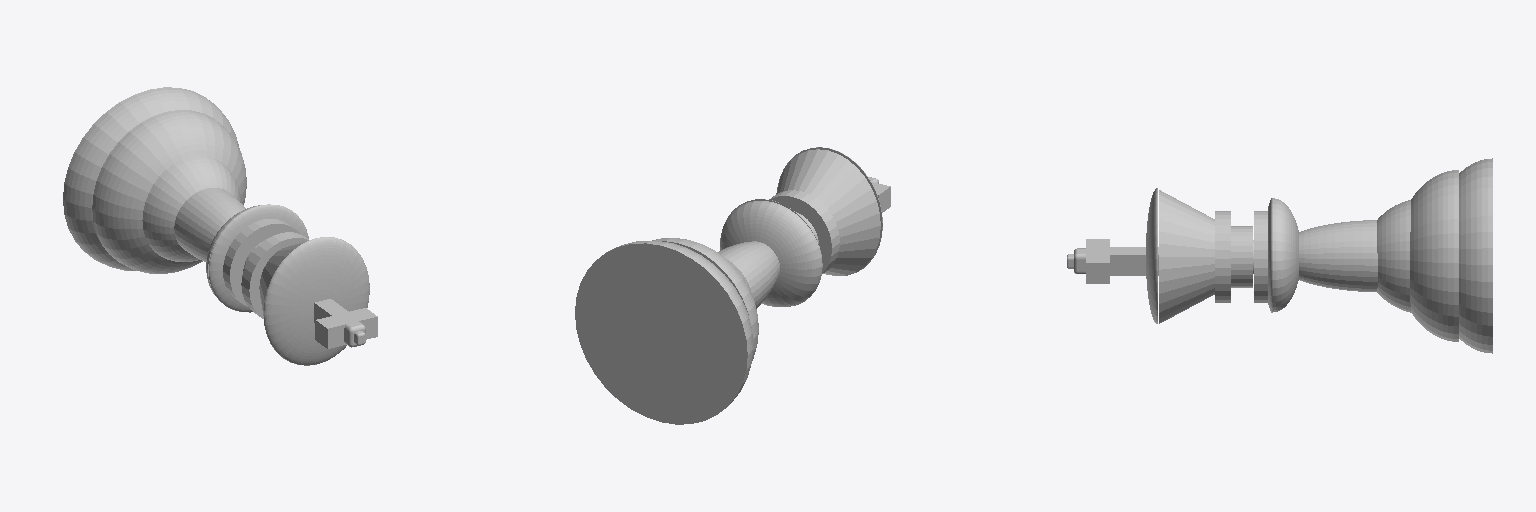
The model's file is king.obj.
3 renders of one model, left to right at view 1: azimuth 30°, elevation 25°; view 2: azimuth 150°, elevation 25°; view 3: azimuth 270°, elevation 25°, orthographic.
Visible parts, largest first — view 1: obj_0; view 2: obj_0; view 3: obj_0.
Boxes of the visible parts, <box> form: obj_0: <box>63,87,377,365</box>; obj_0: <box>575,147,890,424</box>; obj_0: <box>1067,158,1492,353</box>.
Size of the model in its own units: 4.72 by 4.61 by 10.1.